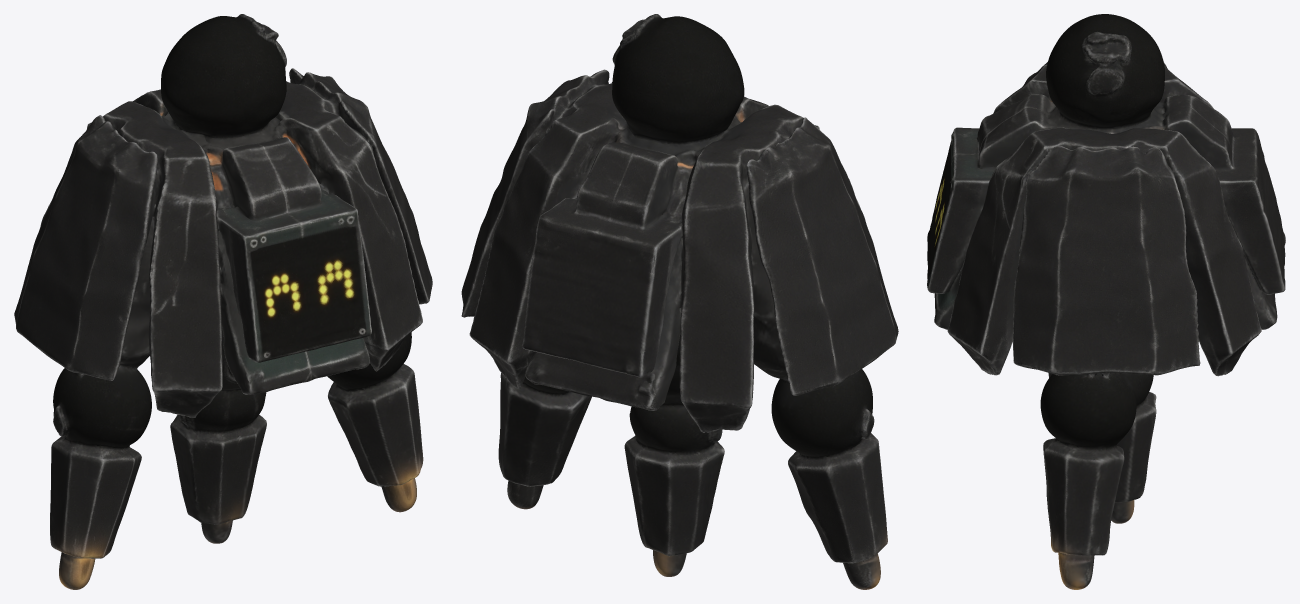
File: pixel-textured.glb
3 renders of one model, left to right at view 1: azimuth 30°, elevation 25°; view 2: azimuth 150°, elevation 25°; view 3: azimuth 270°, elevation 25°, orthographic. The views are drawn at different scales.
Bounding box in the file's own units: 1.46 × 2 × 1.29.
Materials: 1 (1 with a texture image).
